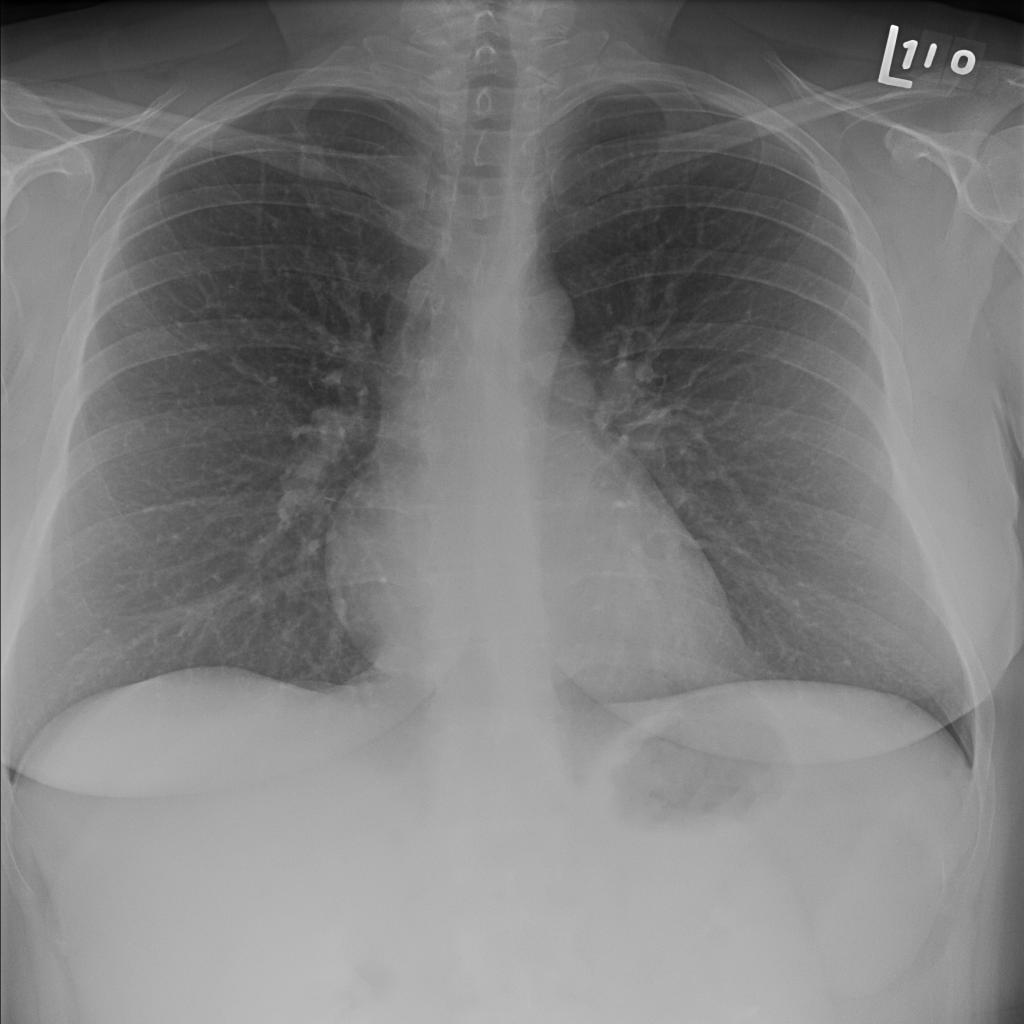Nodule: (407, 182, 456, 213), (222, 71, 262, 101)
